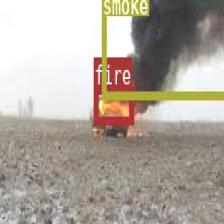fire: (92, 86, 132, 122)
smoke: (101, 0, 224, 97)
